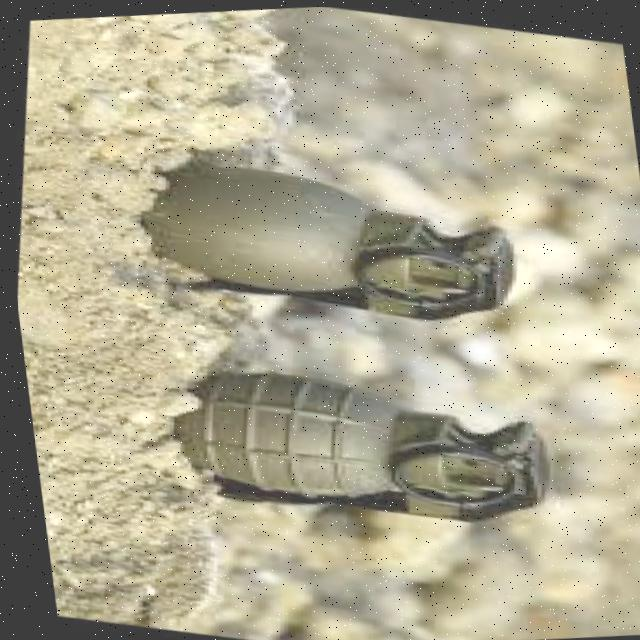grenade: (122, 122, 543, 358), (145, 331, 569, 560)
